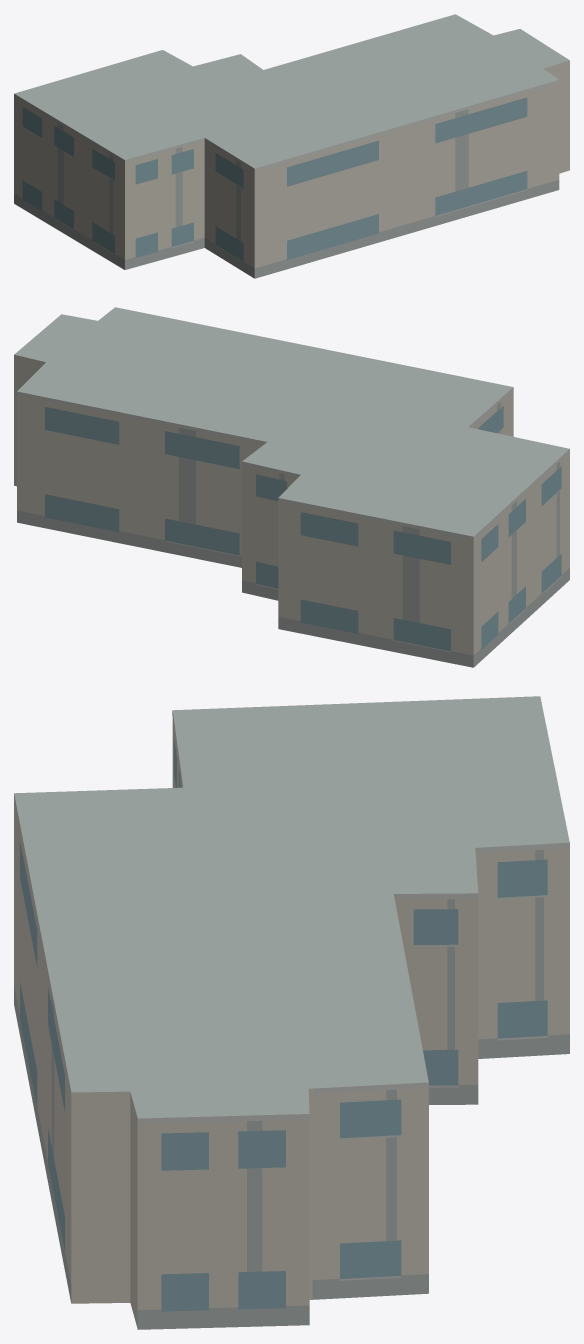
File: survey-upis-32634282.glb
The picture shows the model from 3 angles, top to bottom: view 1: azimuth 30°, elevation 25°; view 2: azimuth 150°, elevation 25°; view 3: azimuth 270°, elevation 25°; orthographic projection. The views are drawn at different scales.
Visible parts, largest first — view 1: survey-upis-32634282.tmp; view 2: survey-upis-32634282.tmp; view 3: survey-upis-32634282.tmp.
Part boxes in pixels (left/top/right/bottom): survey-upis-32634282.tmp: left=14, top=14, right=569, bottom=278; survey-upis-32634282.tmp: left=14, top=307, right=569, bottom=667; survey-upis-32634282.tmp: left=14, top=696, right=569, bottom=1329.
Bounding box in the file's own units: 39.24 × 9.15 × 21.82.
